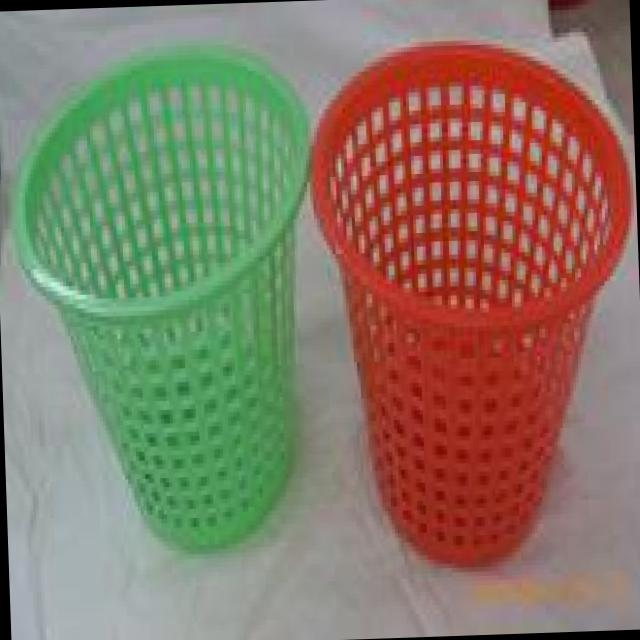dustbin: (298, 25, 640, 572), (3, 31, 328, 564)
